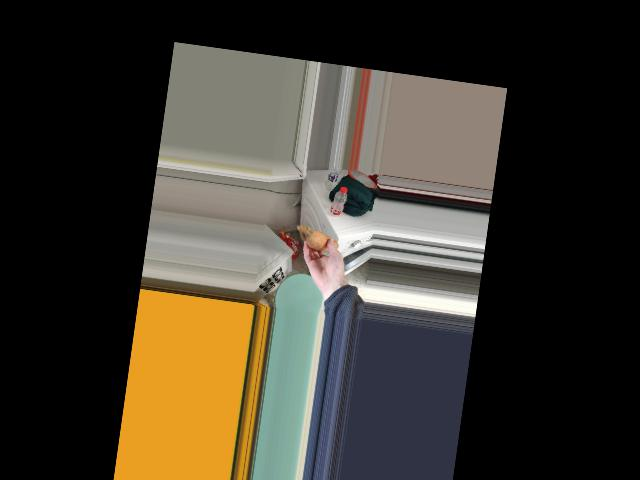sweet_potato: (306, 229, 335, 251)
